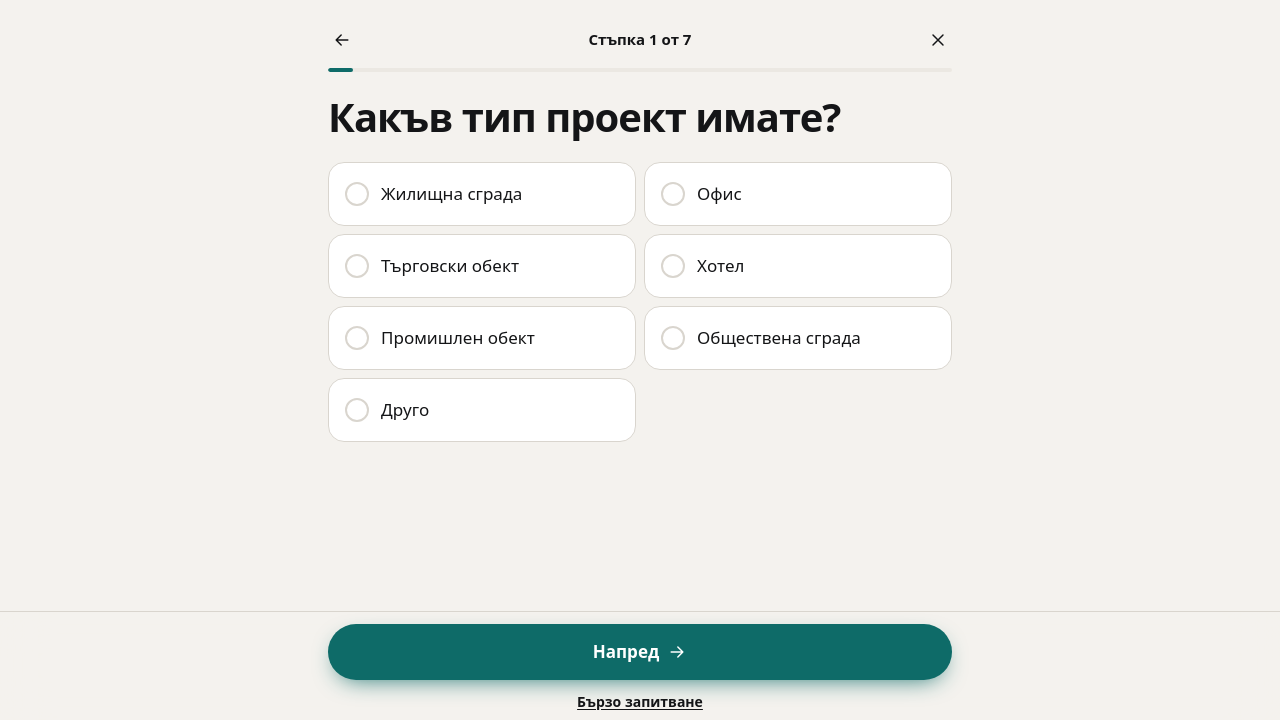
Test case: quote wizard › prefills material and service from the URL
Expected: the text "Стъпка 1 от 7" is shown, 588,28 -> 691,52
Click the radio button labelled "Офис" at [719, 194], box 644,162 -> 952,226
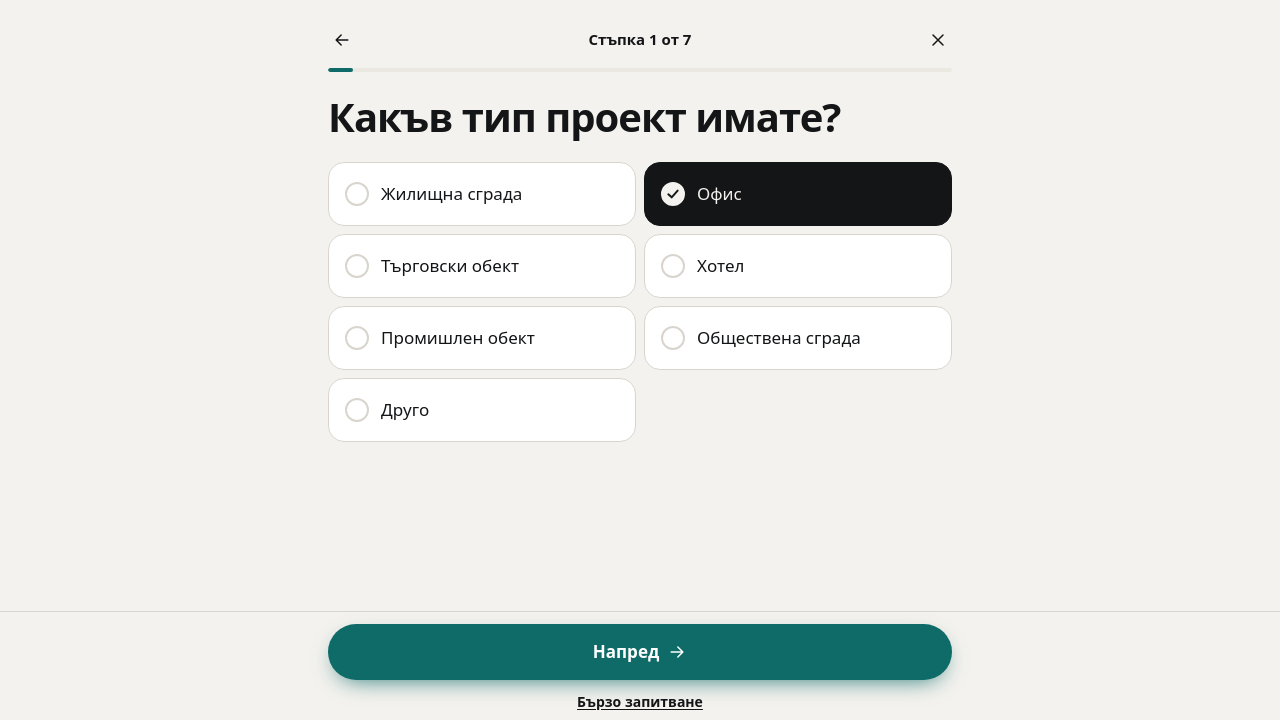
Click the button with test id "next-step" at [640, 652], box 328,624 -> 952,680
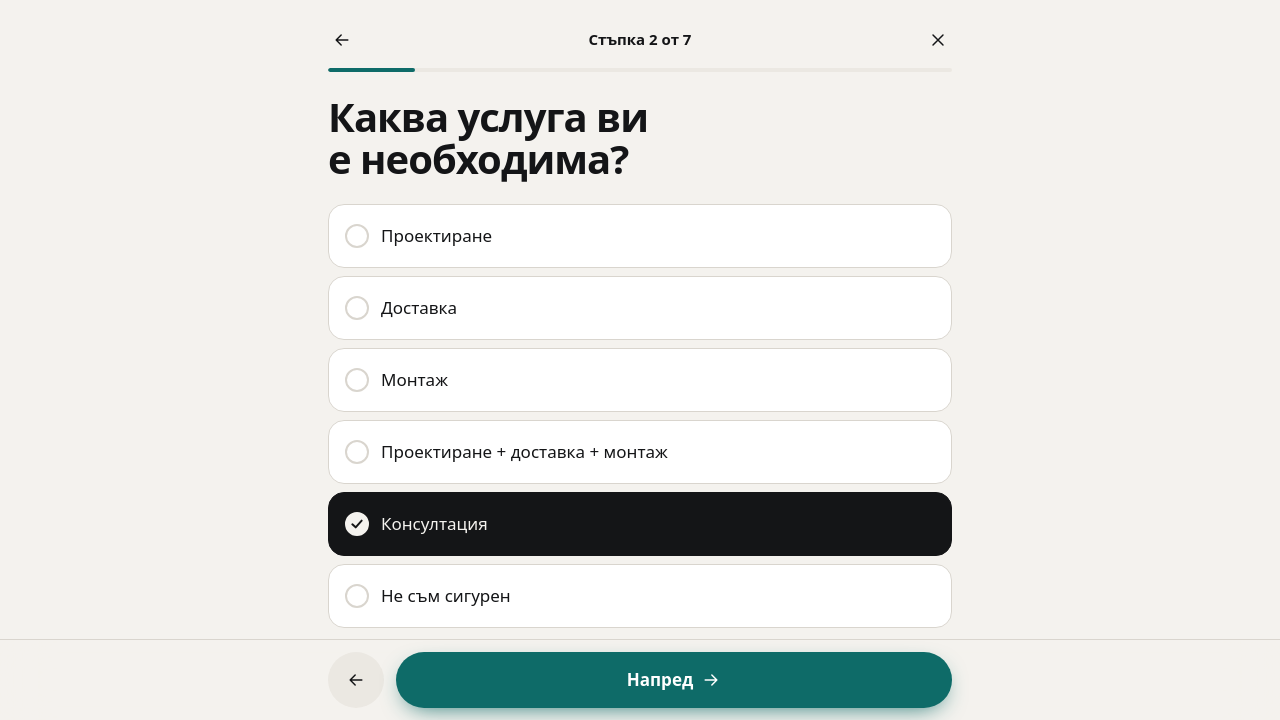
Now the radio button labelled "Консултация" is checked, box 328,492 -> 952,556
Click the button with test id "next-step" at [674, 680], box 396,652 -> 952,708
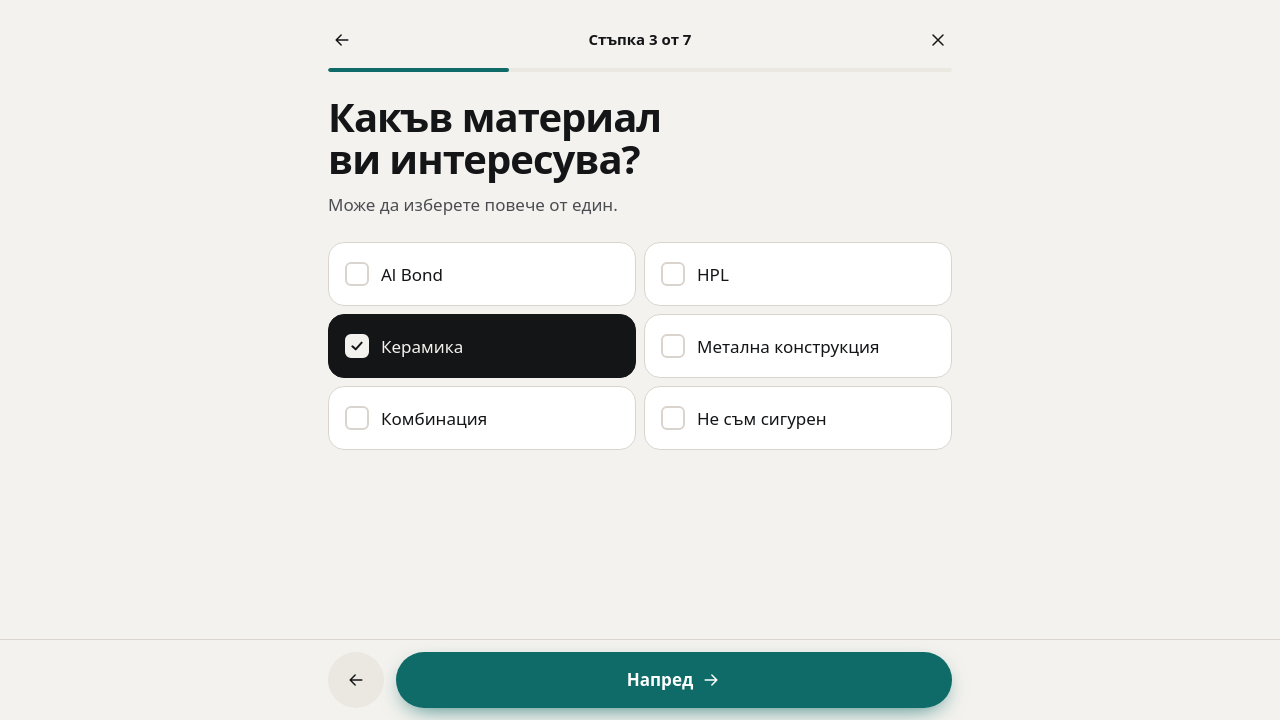
Now the checkbox labelled "Керамика" is checked, box 328,314 -> 636,378
